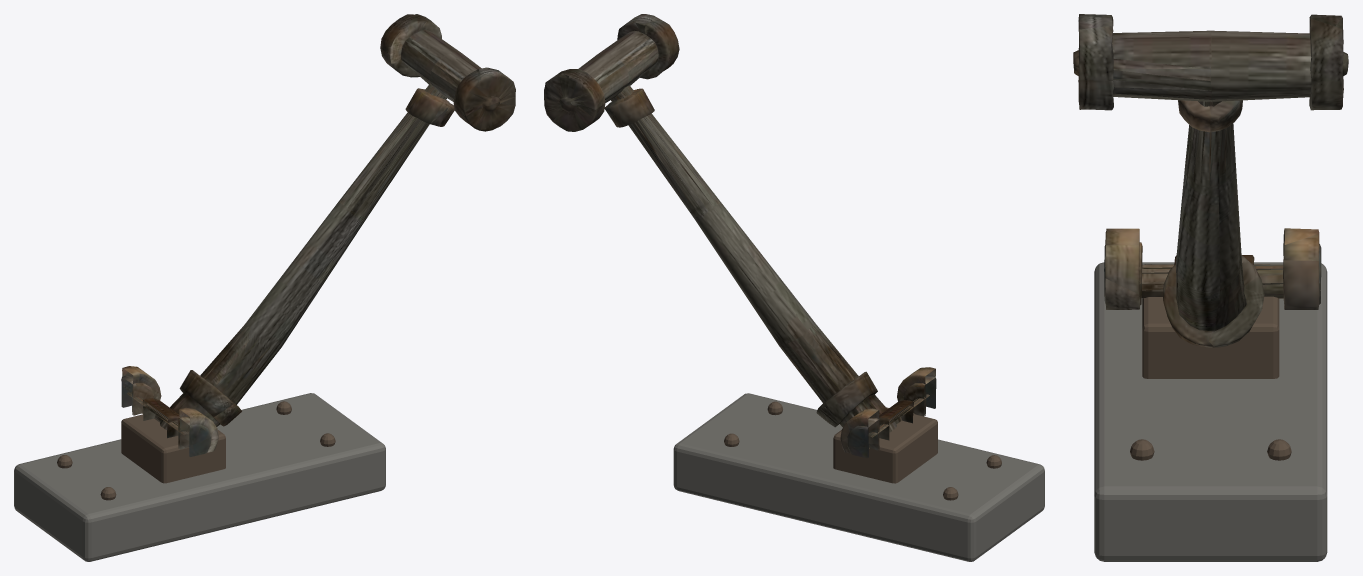
Rendered from kol.glb.
The picture shows the model from 3 angles, left to right: view 1: azimuth 30°, elevation 25°; view 2: azimuth 150°, elevation 25°; view 3: azimuth 270°, elevation 25°; orthographic projection. The views are drawn at different scales.
Parts seen in each view (by area): view 1: Low stone foundation, Mesh_0, Iron hinge mount; view 2: Low stone foundation, Mesh_0, Iron hinge mount; view 3: Low stone foundation, Mesh_0, Iron hinge mount, Sphere.003, Sphere.002.
Part boxes in pixels (x1=…): Low stone foundation: x1=14, y1=393, x2=385, y2=561; Mesh_0: x1=121, y1=14, x2=515, y2=456; Iron hinge mount: x1=121, y1=414, x2=225, y2=483; Low stone foundation: x1=673, y1=393, x2=1044, y2=561; Mesh_0: x1=544, y1=14, x2=936, y2=458; Iron hinge mount: x1=833, y1=407, x2=937, y2=483; Low stone foundation: x1=1094, y1=262, x2=1327, y2=561; Mesh_0: x1=1073, y1=14, x2=1348, y2=347; Iron hinge mount: x1=1142, y1=296, x2=1279, y2=378; Sphere.003: x1=1267, y1=439, x2=1291, y2=460; Sphere.002: x1=1130, y1=439, x2=1154, y2=460.
Bounding box in the file's own units: 1.12 × 1 × 0.4012.
3 materials, 1 textured.
